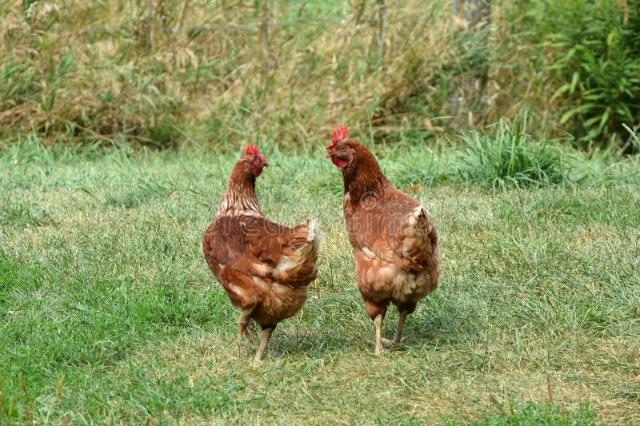Chicken: (326, 126, 441, 358), (205, 142, 325, 361)
